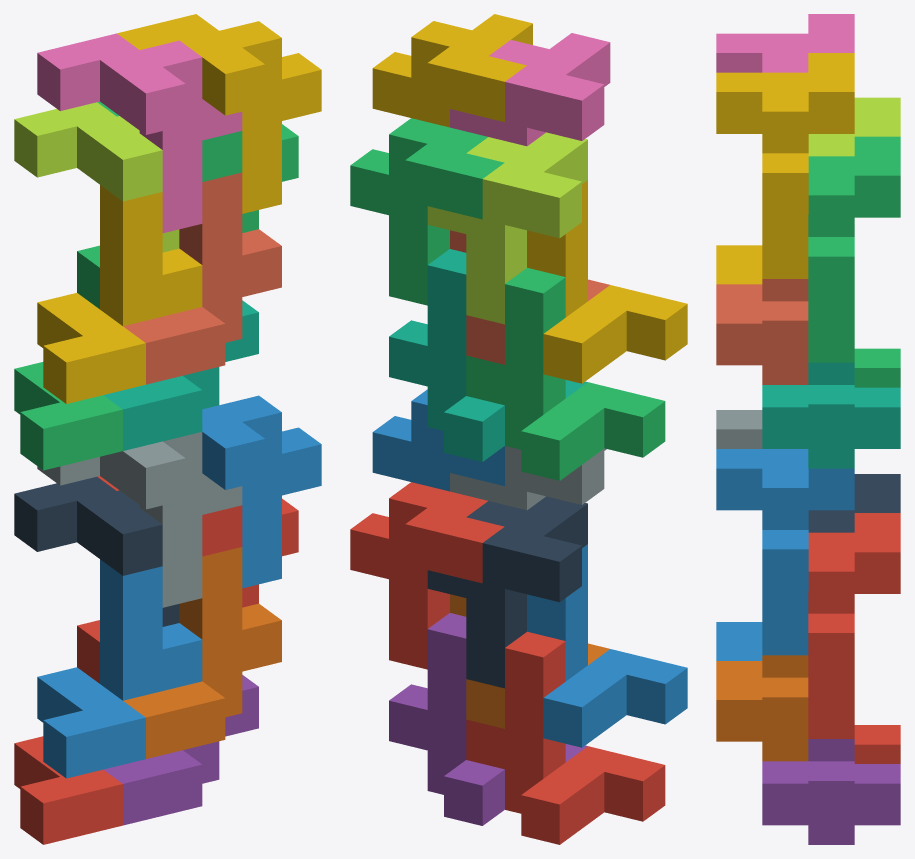
The model's file is tiling.obj.
The picture shows the model from 3 angles, left to right: view 1: azimuth 30°, elevation 25°; view 2: azimuth 150°, elevation 25°; view 3: azimuth 270°, elevation 25°; orthographic projection. The views are drawn at different scales.
Parts seen in each view (by area): view 1: copy_1_domain_2, copy_1_domain_4, copy_2_domain_4, copy_2_domain_8, copy_1_domain_8, copy_1_domain_6, copy_2_domain_6, copy_2_domain_2, copy_2_domain_3, copy_2_domain_1, copy_1_domain_1, copy_1_domain_3 (+4 smaller); view 2: copy_1_domain_3, copy_1_domain_1, copy_2_domain_1, copy_2_domain_3, copy_2_domain_5, copy_2_domain_7, copy_1_domain_4, copy_1_domain_2, copy_1_domain_5, copy_1_domain_7, copy_2_domain_8, copy_2_domain_4 (+4 smaller); view 3: copy_2_domain_8, copy_2_domain_6, copy_2_domain_7, copy_2_domain_5, copy_1_domain_7, copy_1_domain_5, copy_1_domain_6, copy_1_domain_8, copy_2_domain_4, copy_2_domain_3, copy_2_domain_1, copy_1_domain_3 (+4 smaller).
Boxes of the visible parts, x1,y1,x2,y2 form: copy_1_domain_2: (37,559,202,778); copy_1_domain_4: (37,185,202,403); copy_2_domain_4: (37,33,242,233); copy_2_domain_8: (117,14,321,213); copy_1_domain_8: (123,172,281,384); copy_1_domain_6: (123,547,281,758); copy_2_domain_6: (202,395,321,588); copy_2_domain_2: (37,432,242,607); copy_2_domain_3: (14,102,179,252); copy_2_domain_1: (14,476,179,626); copy_1_domain_1: (14,620,122,844); copy_1_domain_3: (14,245,122,470); copy_1_domain_3: (466,267,665,480); copy_1_domain_1: (466,631,665,844); copy_2_domain_1: (427,496,587,688); copy_2_domain_3: (427,132,587,324); copy_2_domain_5: (350,482,504,669); copy_2_domain_7: (350,118,504,305); copy_1_domain_4: (527,180,687,383); copy_1_domain_2: (527,544,687,747); copy_1_domain_5: (389,613,587,825); copy_1_domain_7: (389,249,587,461); copy_2_domain_8: (372,14,532,127); copy_2_domain_4: (450,33,610,146); copy_2_domain_8: (716,53,854,278); copy_2_domain_6: (716,449,854,655); copy_2_domain_7: (808,136,900,362); copy_2_domain_5: (808,513,900,738); copy_1_domain_7: (762,362,900,468); copy_1_domain_5: (762,739,900,844); copy_1_domain_6: (716,655,808,761); copy_1_domain_8: (716,279,808,384); copy_2_domain_4: (716,14,854,72); copy_2_domain_3: (808,97,900,156); copy_2_domain_1: (808,474,900,532); copy_1_domain_3: (854,348,900,387).
Size of the model in its own units: 7 by 18 by 4.
